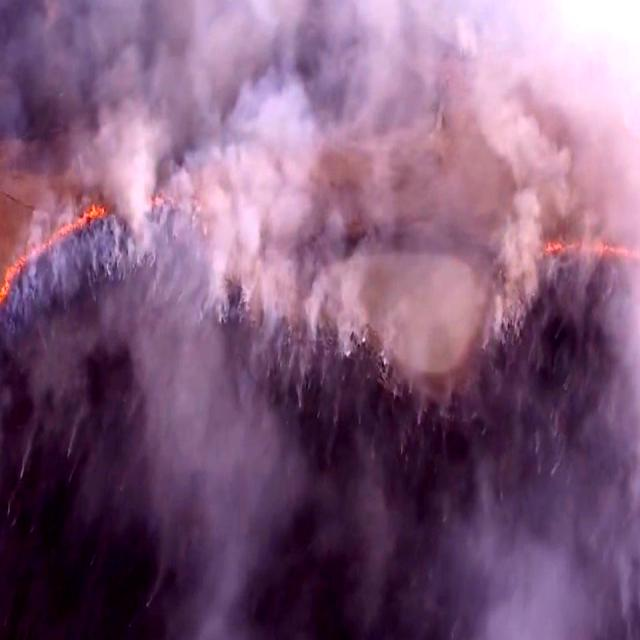smoke: (141, 195, 305, 640), (109, 0, 323, 142), (431, 489, 616, 640)
